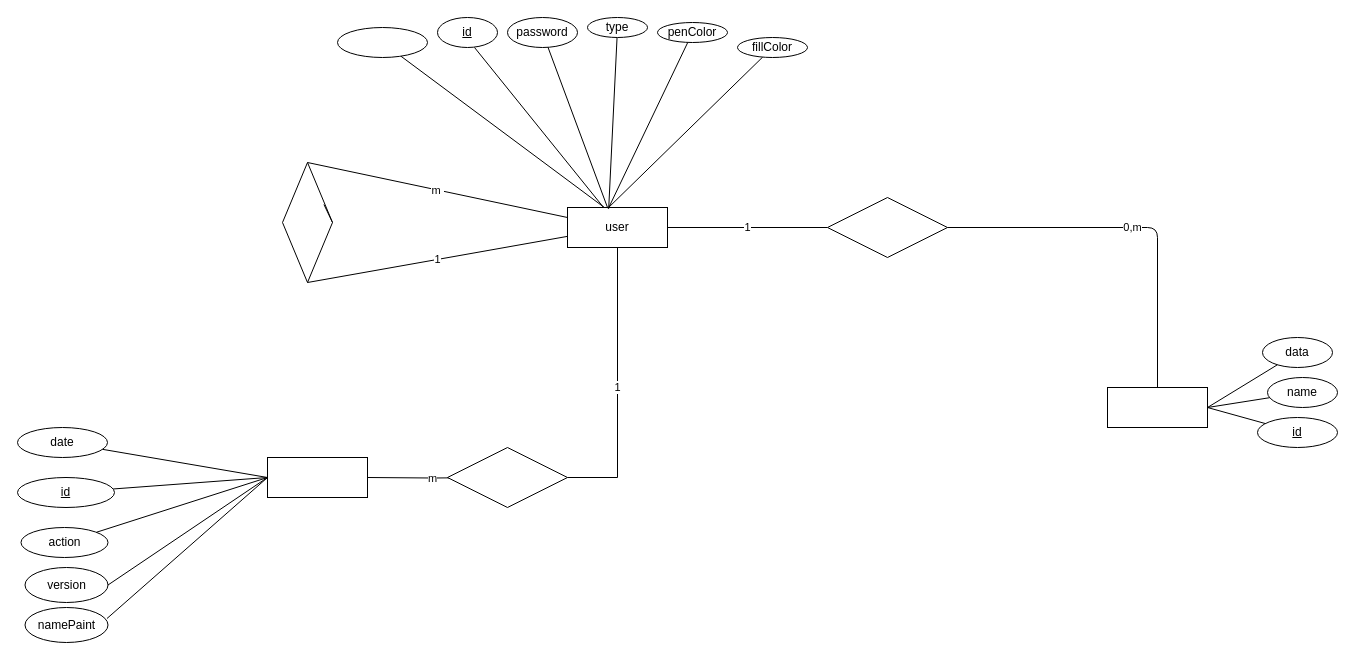
Some shapes in this 1355 by 660 pixel diagram are drawn without their labels. Here are the shapes that lost their labels. From the top down, the centre of each, then its label:
At (382,42): "userName".
At (307,222): "gestiona".
At (887,227): "crea".
At (1157,407): "Paint".
At (317,477): "binnacle".
At (507,477): "tiene".
